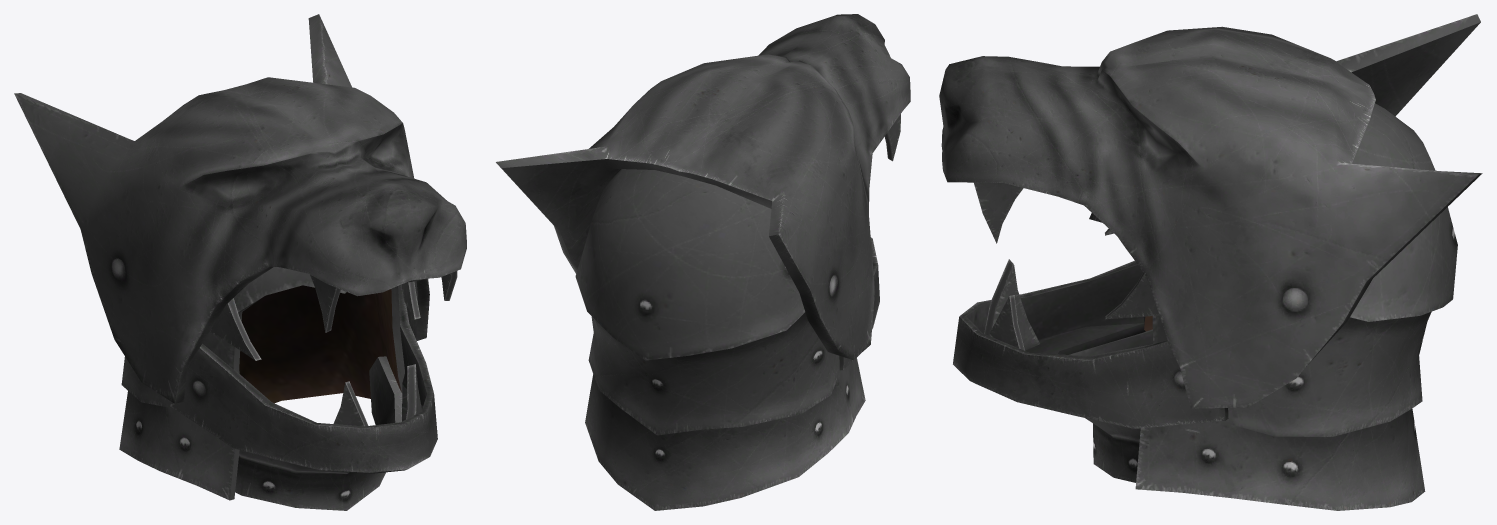
Rendered from HoundHelm_WorldItem.fbx.
3 views of the same model, side by side, from view 1: azimuth 30°, elevation 25°; view 2: azimuth 150°, elevation 25°; view 3: azimuth 270°, elevation 25° (orthographic). The views are drawn at different scales.
Visible parts, largest first — view 1: sorry_im_berserk_helm_open; view 2: sorry_im_berserk_helm_open; view 3: sorry_im_berserk_helm_open.
Part boxes in pixels (box(x1,y1,x2,y2)): sorry_im_berserk_helm_open: box(14, 14, 466, 510); sorry_im_berserk_helm_open: box(496, 14, 910, 510); sorry_im_berserk_helm_open: box(939, 14, 1482, 510).
Size of the model in its own units: 0.1645 by 0.2046 by 0.229.
